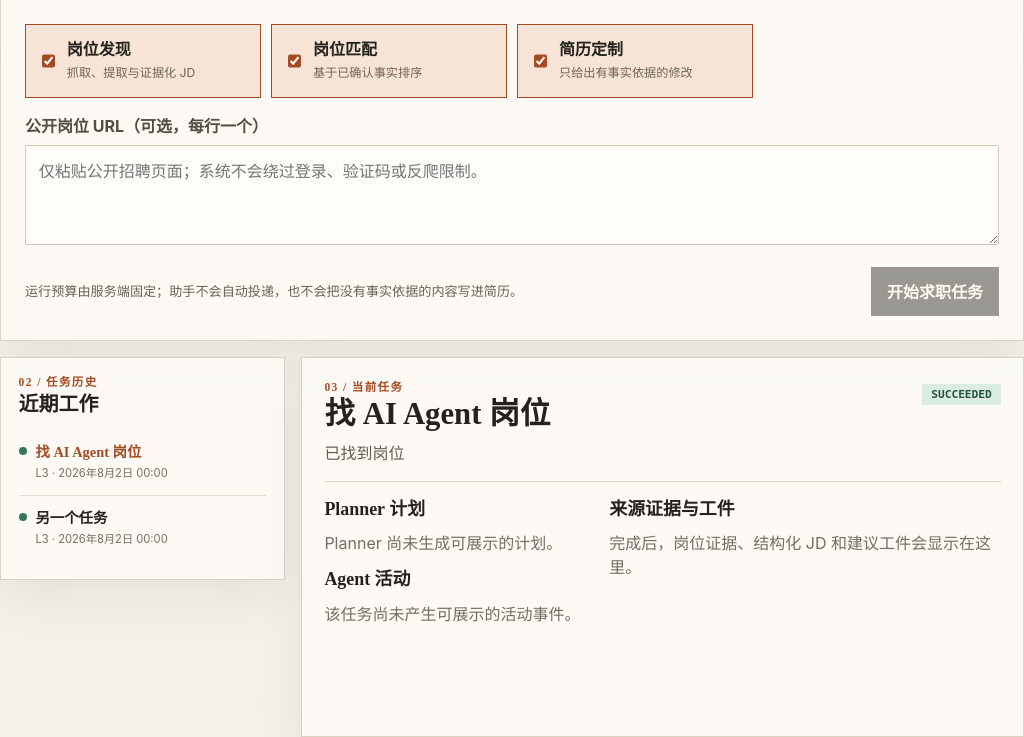
AgentWorkspace › surfaces history and run-detail loading failures without leaking technical context
This screenshot has width=1024, height=737.
(page scrolled)
Click the 2nd button with class "run-button": click(142, 528) x1=19 y1=496 x2=266 y2=561
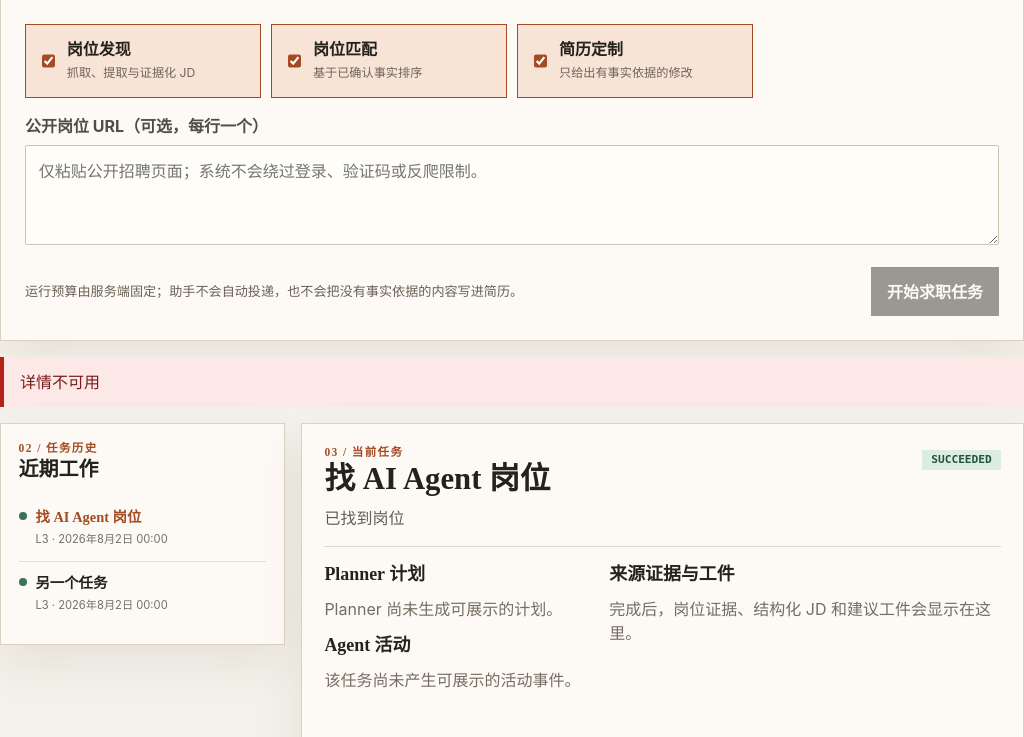
Now the text "详情不可用" is shown, box x1=0 y1=357 x2=1023 y2=407
